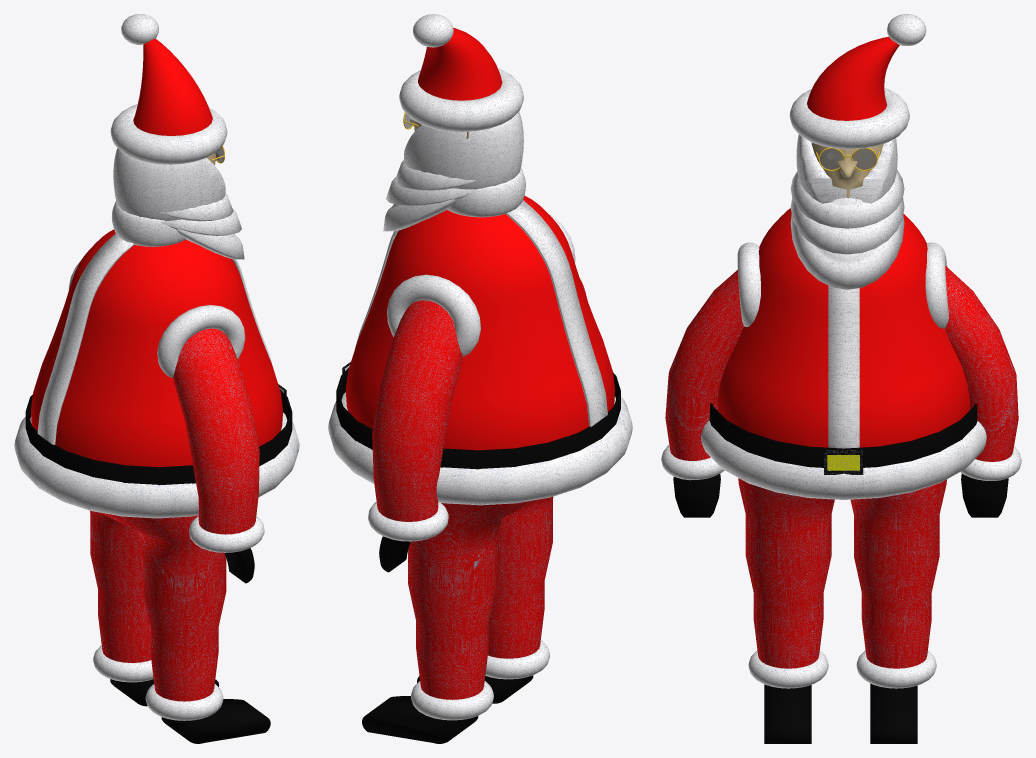
File: santa.dae
3 renders of one model, left to right at view 1: azimuth 30°, elevation 25°; view 2: azimuth 150°, elevation 25°; view 3: azimuth 270°, elevation 25°, orthographic. The views are drawn at different scales.
Parts seen in each view (by area): view 1: group_15, group_17, group_25, group_16, group_30, group_13, group_3, group_34, group_37, group_20, group_27, group_35 (+10 smaller); view 2: group_15, group_24 (×2), group_30, group_16, group_17, group_13, group_34, group_37, group_20, group_3, group_28, group_5 (+9 smaller); view 3: group_15, group_17, group_30, group_24 (×2), group_16, group_25, group_33, group_3, group_37, group_20, group_21, group_13 (+13 smaller).
Boxes of the visible parts, x1,y1,x2,y2 form: group_15: (31, 229, 282, 467); group_17: (100, 512, 226, 701); group_25: (173, 328, 259, 534); group_16: (14, 412, 299, 518); group_30: (90, 511, 151, 662); group_13: (113, 148, 225, 220); group_3: (133, 38, 212, 135); group_34: (37, 233, 134, 444); group_37: (25, 389, 292, 485); group_20: (110, 104, 227, 164); group_27: (157, 305, 245, 377); group_35: (161, 699, 270, 743); group_15: (345, 195, 615, 450); group_24 (×2): (368, 300, 462, 541); group_30: (408, 499, 540, 699); group_16: (328, 392, 632, 505); group_17: (488, 496, 553, 658); group_13: (404, 112, 523, 189); group_34: (506, 200, 607, 426); group_37: (336, 367, 620, 469); group_20: (399, 68, 523, 131); group_3: (418, 28, 502, 100); group_28: (387, 274, 480, 356); group_5: (362, 696, 478, 743); group_15: (717, 208, 969, 447); group_17: (738, 478, 834, 668); group_30: (850, 479, 946, 668); group_24 (×2): (944, 266, 1021, 480); group_16: (701, 421, 986, 499); group_25: (665, 270, 744, 460); group_33: (828, 285, 859, 448); group_3: (807, 36, 899, 120); group_37: (709, 403, 977, 467); group_20: (789, 87, 909, 149); group_21: (790, 215, 904, 289); group_13: (796, 134, 897, 203).
Size of the model in its own units: 74.75 by 91.74 by 197.
